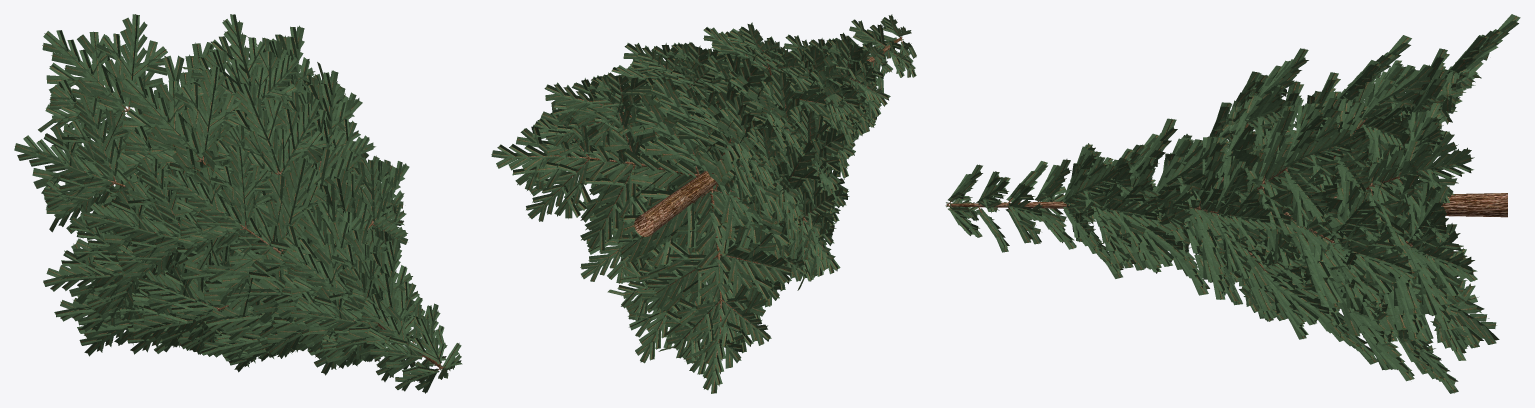
Rendered from Tree2.dae.
3 renders of one model, left to right at view 1: azimuth 30°, elevation 25°; view 2: azimuth 150°, elevation 25°; view 3: azimuth 270°, elevation 25°, orthographic. The views are drawn at different scales.
Visible parts, largest first — view 1: node; view 2: node; view 3: node.
Part boxes in pixels (x1,y1,x2,y2): node: (14,14,462,393); node: (491,14,916,393); node: (945,14,1520,393).
Size of the model in its own units: 3.9 by 3.62 by 5.67.
Materials: 3 (3 with a texture image).
